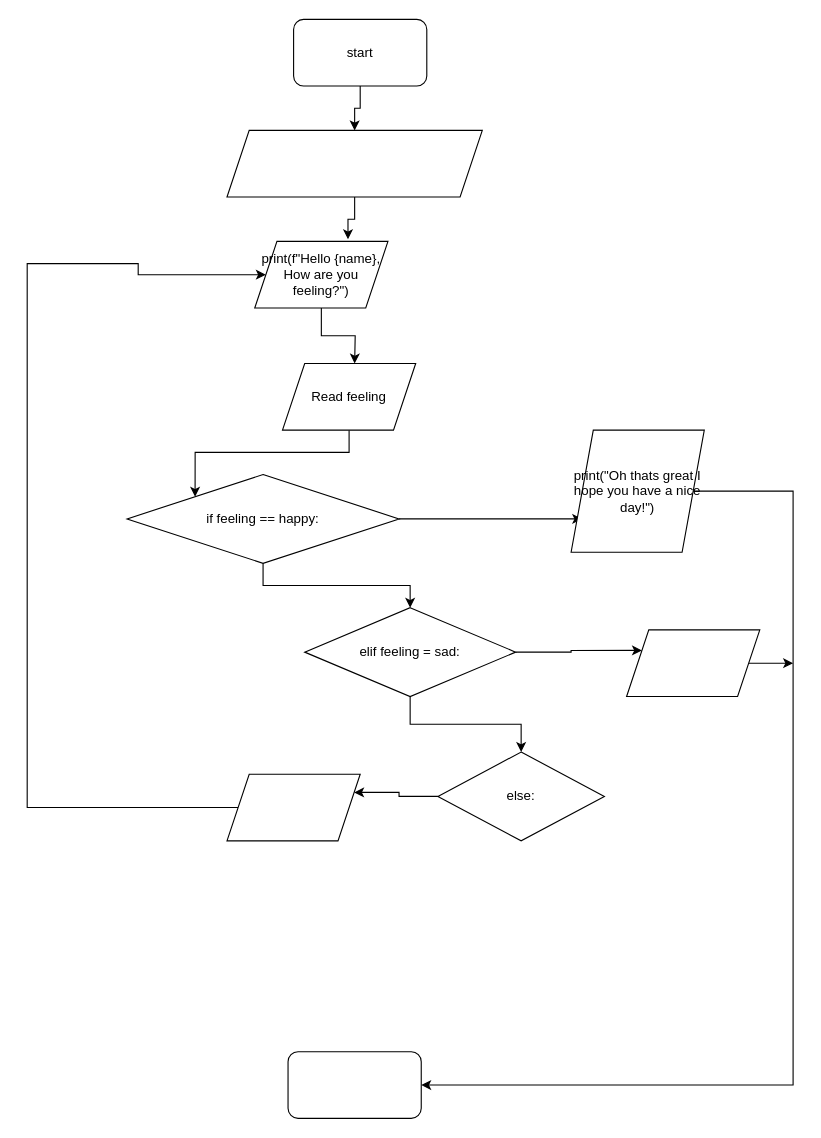
Image size: 821x1138. Some labels were removed from this diagram. The shapes that lost their labels are listed below. From the top down, each one's box as (x1, y1, x2, y2) in pixels, then its label:
(226, 129, 482, 197): name = input("Hello this is chatbot what is your name?")
(625, 629, 760, 697): print("Try listening to some upbeat songs!")
(226, 773, 360, 841): print("Please say happy/sad")
(287, 1051, 421, 1118): end
